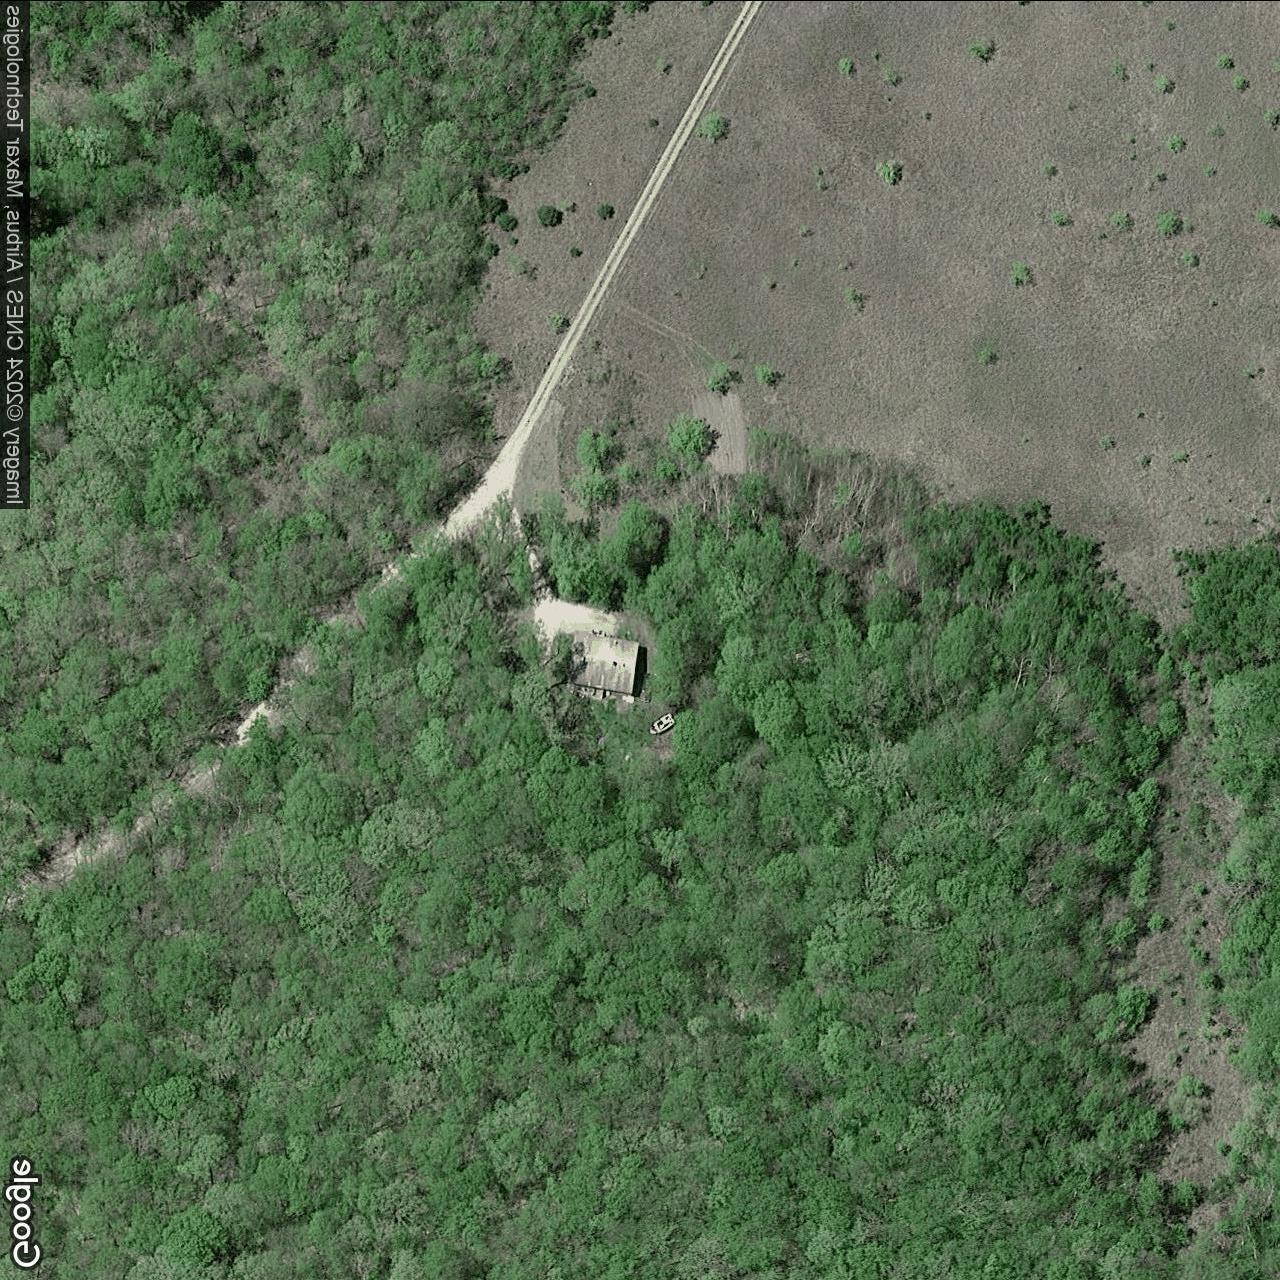House: (566, 627, 642, 694)
